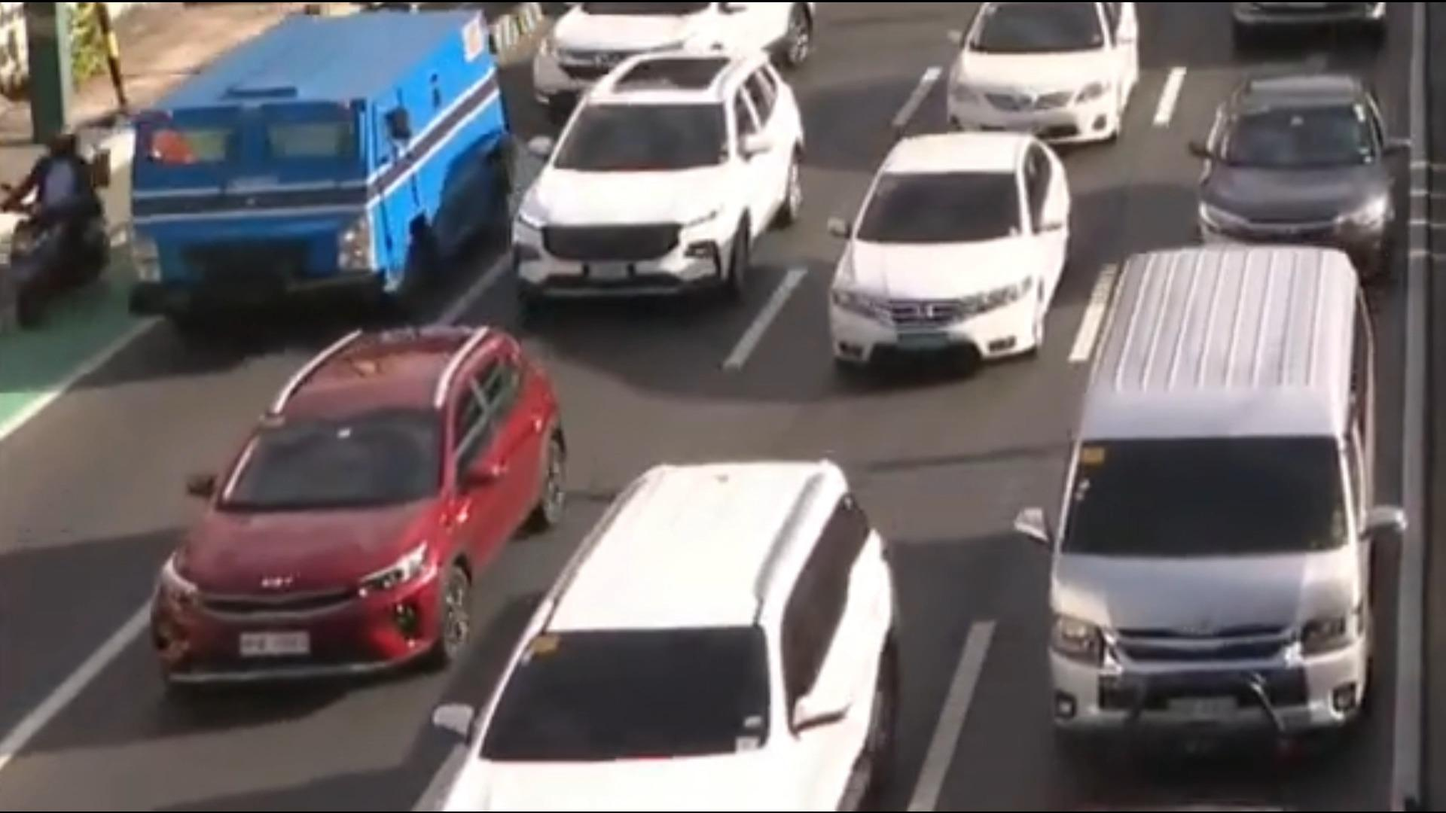Motorcycle: (0, 120, 126, 326)
SUV: (433, 454, 911, 813), (149, 324, 567, 700), (506, 62, 813, 299), (525, 0, 817, 100)
Sedan: (810, 143, 1079, 363), (1190, 75, 1403, 263), (945, 0, 1149, 141)
Truck: (136, 13, 512, 339)
Van: (1047, 254, 1384, 743)
